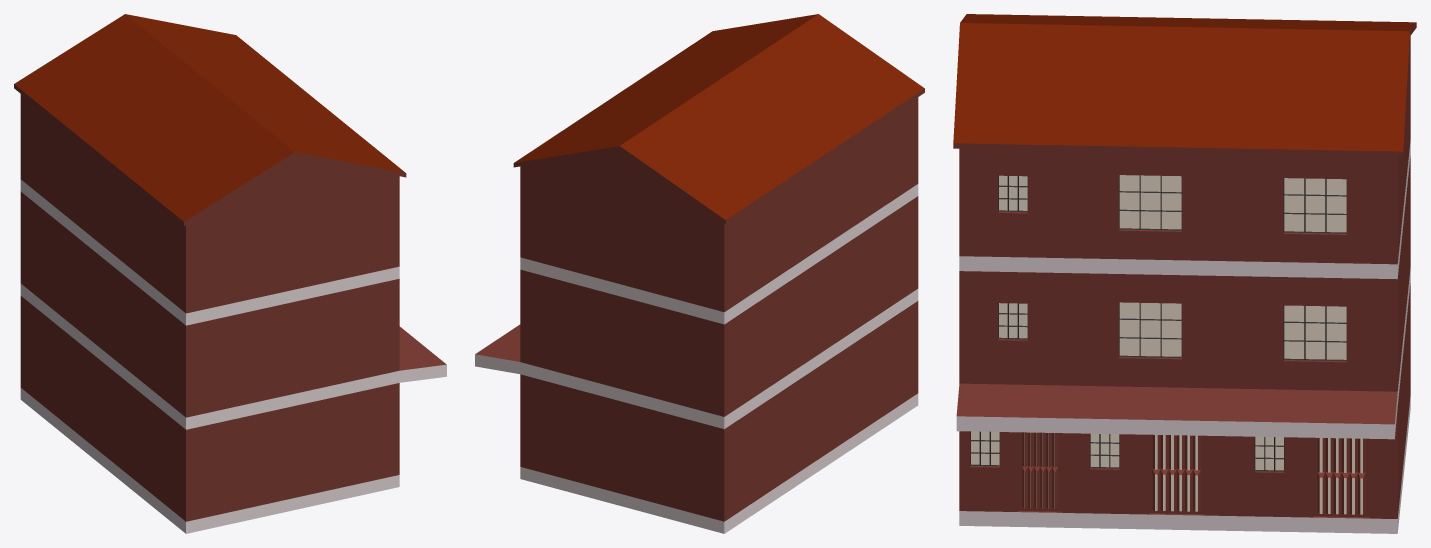
File: shop 1.fbx
3 renders of one model, left to right at view 1: azimuth 30°, elevation 25°; view 2: azimuth 150°, elevation 25°; view 3: azimuth 270°, elevation 25°, orthographic. The views are drawn at different scales.
Visible parts, largest first — view 1: building_003; view 2: building_003; view 3: building_003.
Boxes of the visible parts, bbox=[...] form: building_003: bbox=[14, 14, 446, 533]; building_003: bbox=[475, 14, 924, 533]; building_003: bbox=[953, 14, 1416, 533].
Bounding box in the file's own units: 657 × 830 × 791.
